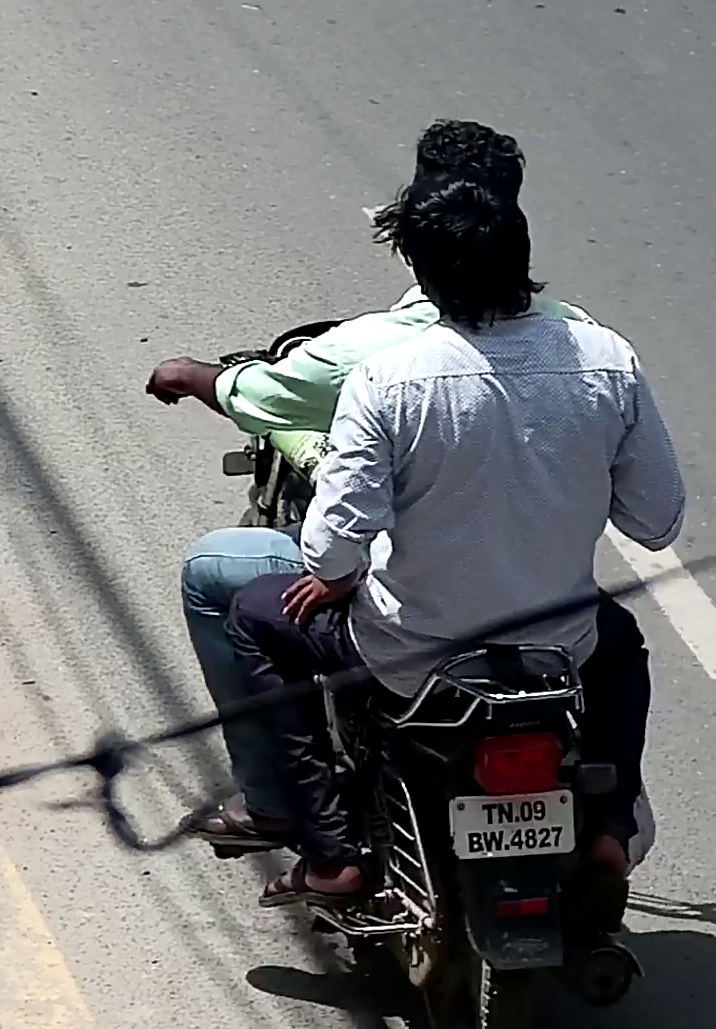.: (504, 843, 509, 851), (514, 816, 519, 823)
0: (520, 801, 532, 822)
2: (538, 827, 551, 848)
4: (510, 829, 524, 850)
7: (551, 826, 563, 848)
8: (524, 828, 538, 849)
9: (533, 800, 546, 821)
B: (467, 832, 482, 853)
N: (497, 801, 514, 824)
P16: (447, 788, 576, 862)
T: (481, 803, 497, 825)
W: (482, 831, 503, 851)
